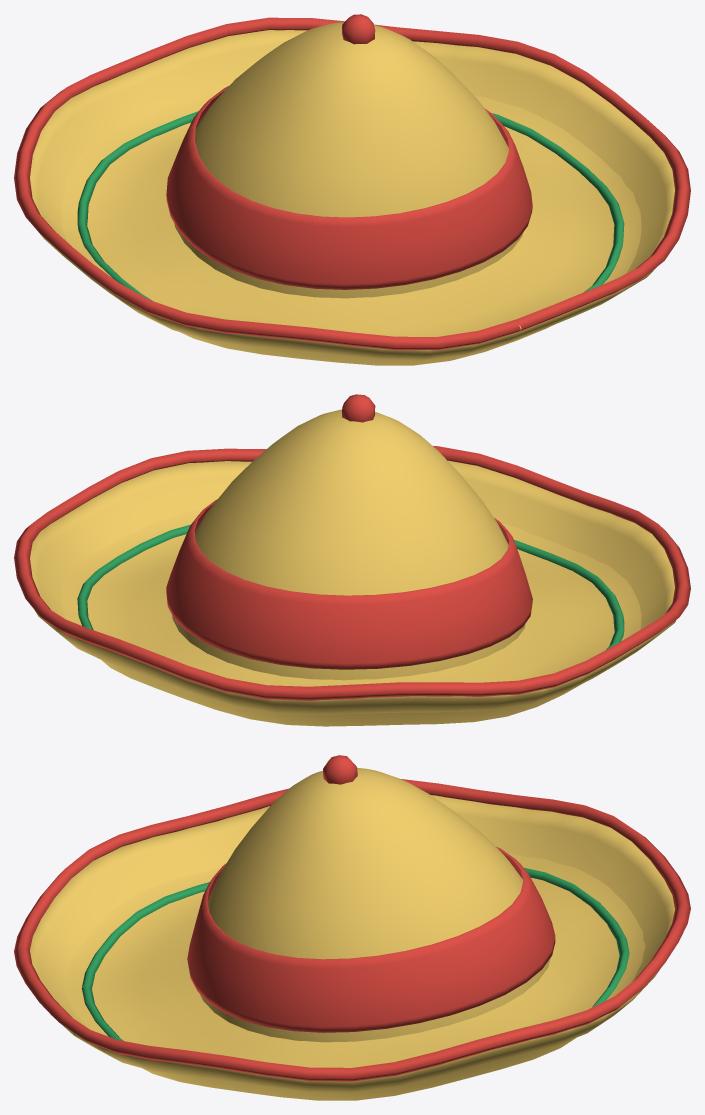
Rendered from hat_sombrero.glb.
3 views of the same model, one above another, from view 1: azimuth 30°, elevation 25°; view 2: azimuth 150°, elevation 25°; view 3: azimuth 270°, elevation 25° (orthographic).
Parts seen in each view (by area): view 1: HatSombrero; view 2: HatSombrero; view 3: HatSombrero.
Part boxes in pixels (x1,y1,x2,y2): HatSombrero: [14, 14, 690, 365]; HatSombrero: [14, 394, 690, 726]; HatSombrero: [14, 755, 690, 1100].
Size of the model in its own units: 0.979 by 0.397 by 0.9766.
